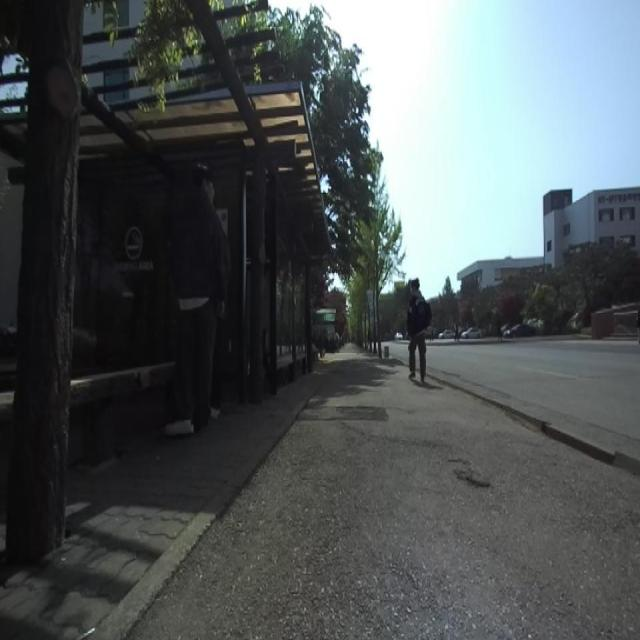sidewalk: (133, 352, 640, 639)
